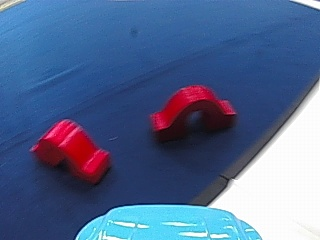bridge: (28, 116, 117, 187), (144, 82, 240, 141)
